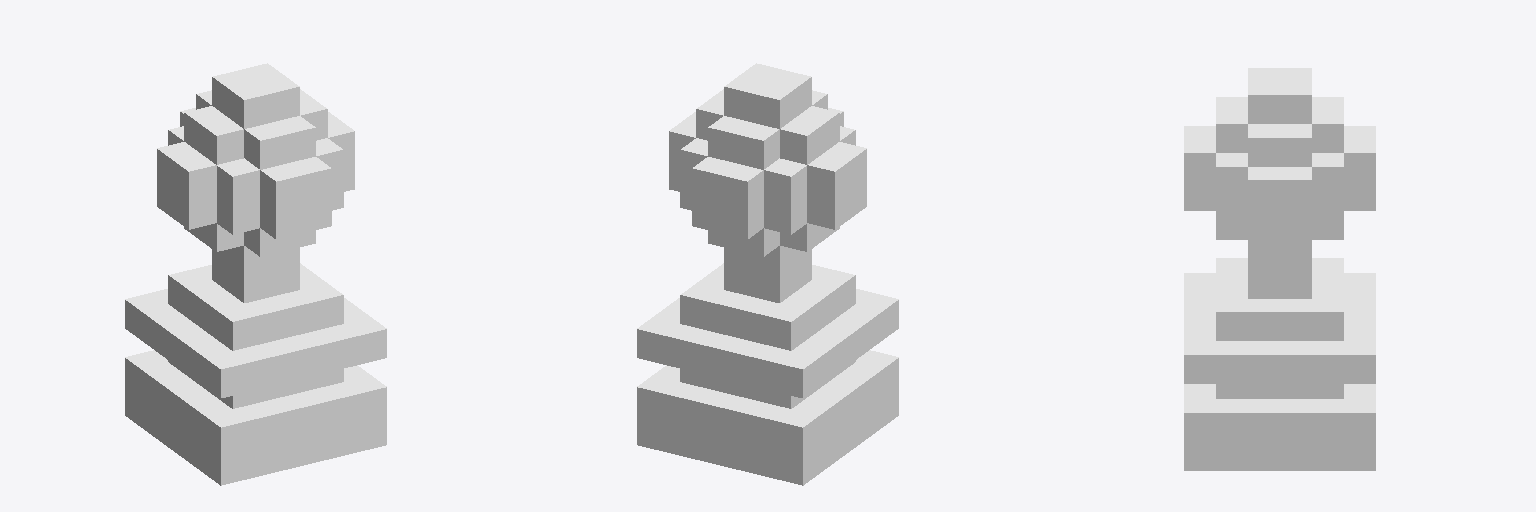
The model's file is PeonB.obj.
The picture shows the model from 3 angles: view 1: azimuth 30°, elevation 25°; view 2: azimuth 150°, elevation 25°; view 3: azimuth 270°, elevation 25°; orthographic projection.
Visible parts, largest first — view 1: object 1; view 2: object 1; view 3: object 1.
Part boxes in pixels (x1,y1,x2,y2): object 1: (125,63,386,485); object 1: (637,63,898,485); object 1: (1184,68,1375,470).
Bounding box in the file's own units: 0.6 × 1.2 × 0.6.